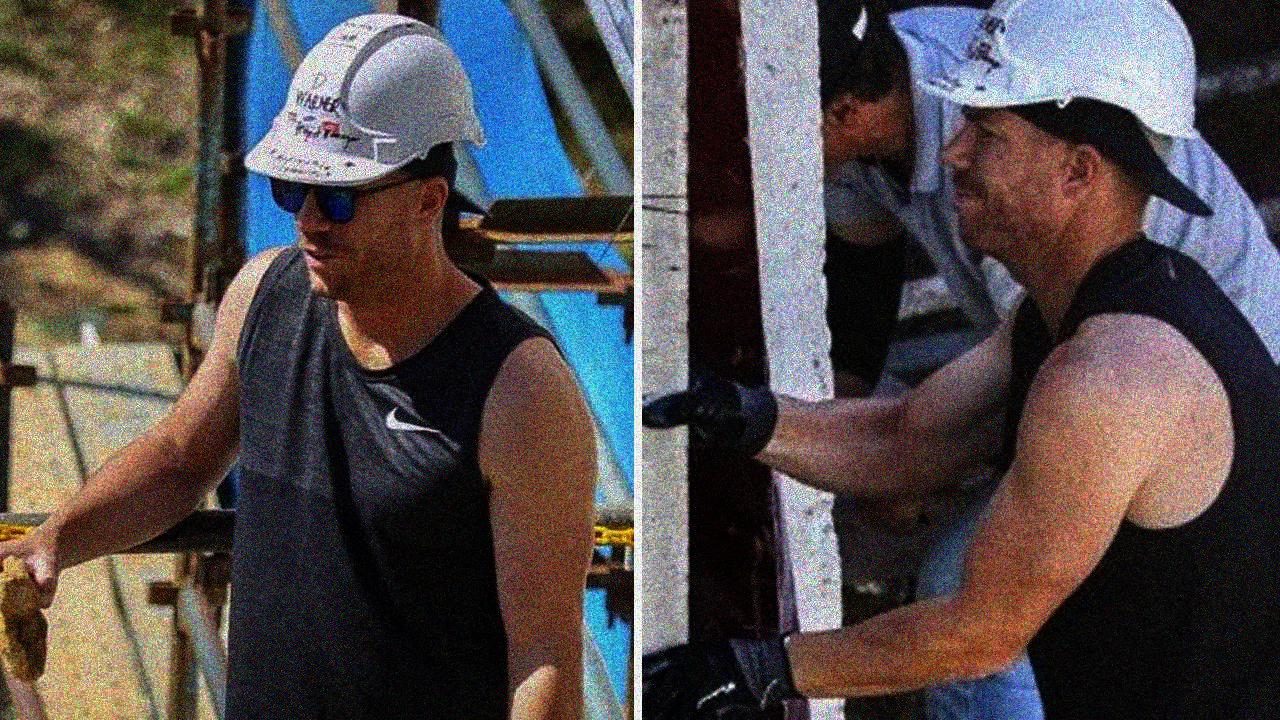helmet: (928, 1, 1204, 272), (243, 10, 492, 299)
